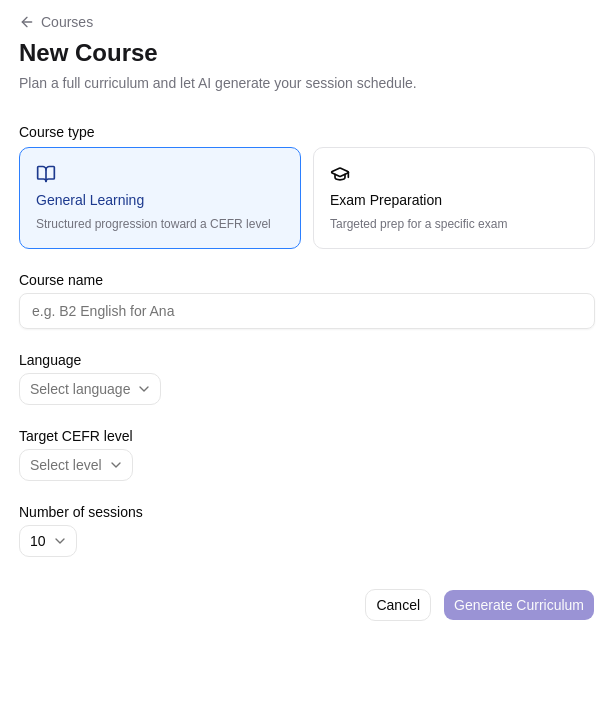
Test: CourseNew wizard › template filtering by CEFR level › shows only B1 templates when B1 is selected
Click the dropdown with test id "cefr-select" at (76, 465), box [19,449,133,481]
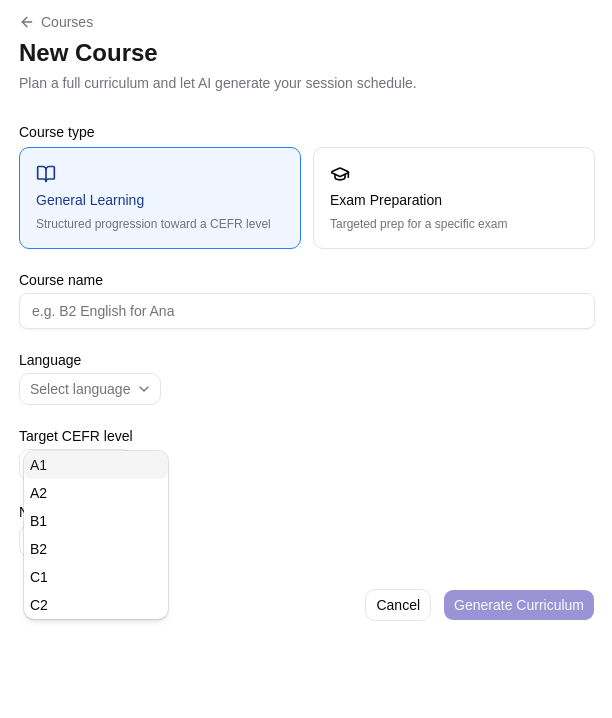
Click the option "B1" at (39, 521), box [30,513,47,529]
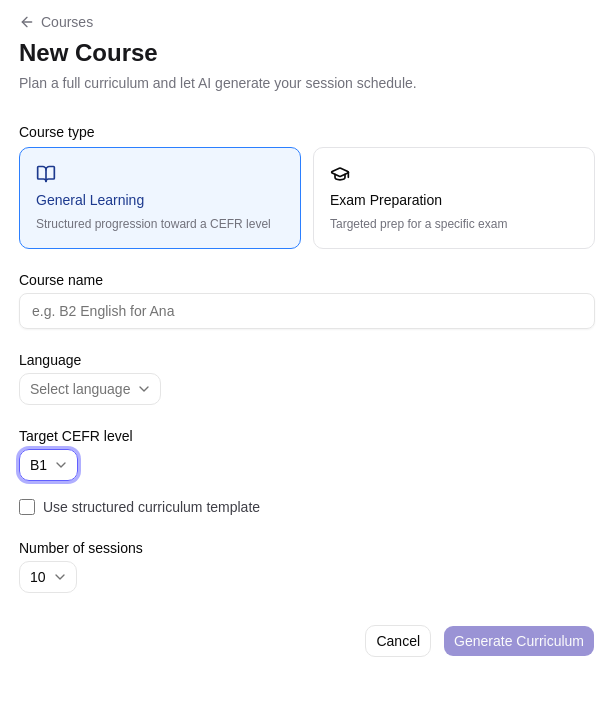
Click the checkbox with test id "use-template-checkbox" at (27, 507), box [19,499,35,515]
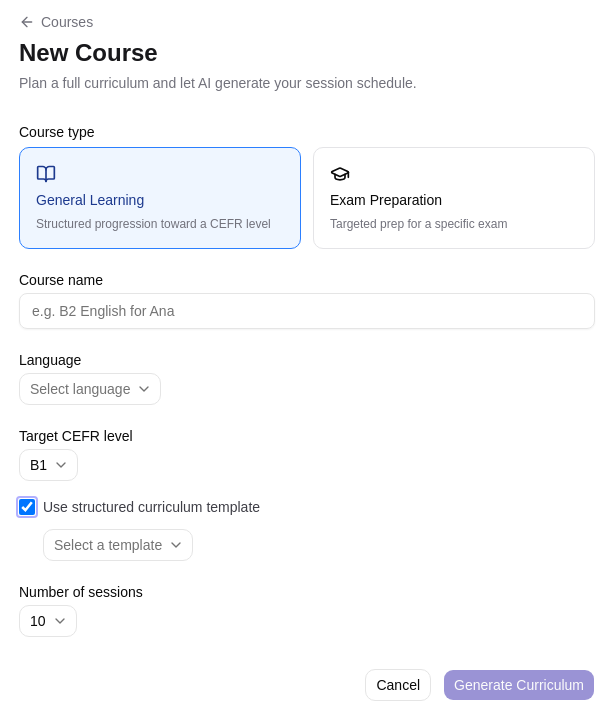
Click the dropdown with test id "template-select" at (118, 545), box [43,529,193,561]
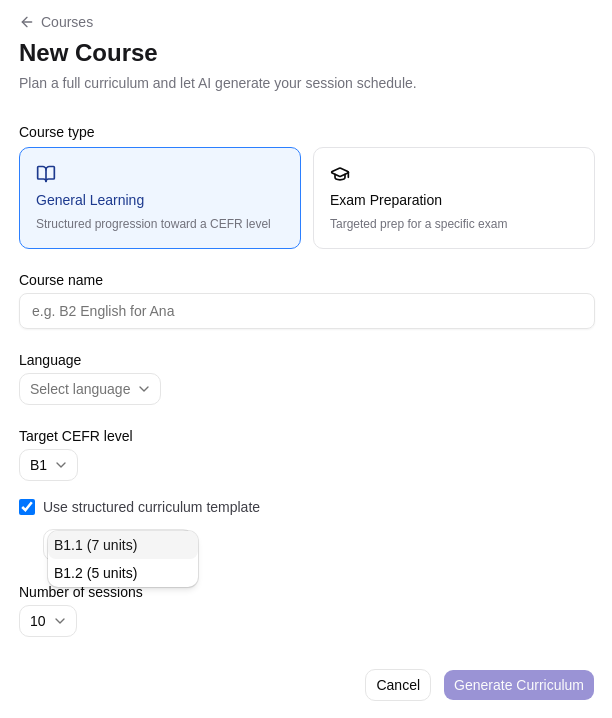
Now the option "B1.1 (7 units)" is shown, box [48,531,198,559]
